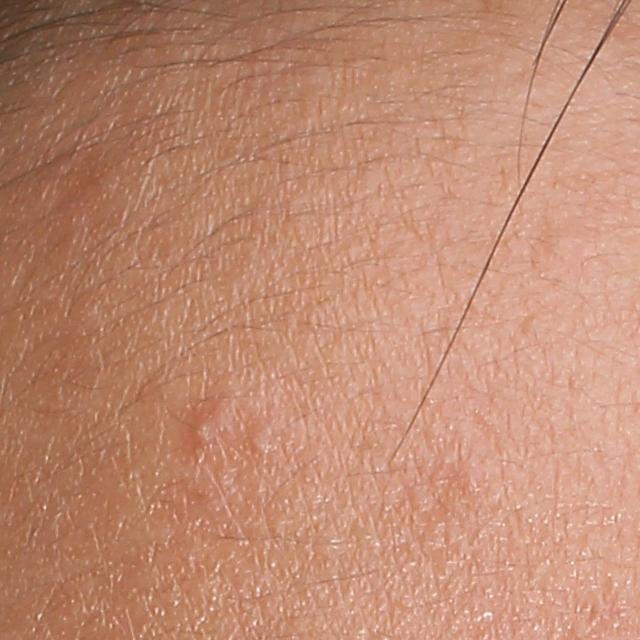papule: (185, 408, 225, 450)
